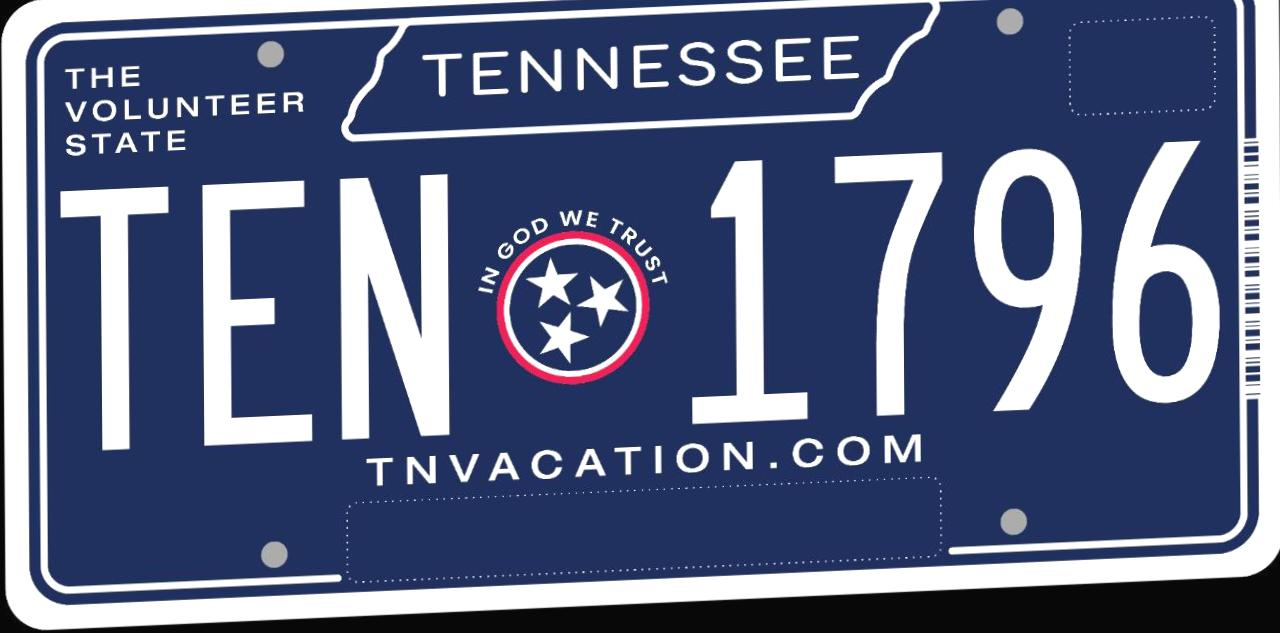License_Plate: (26, 0, 1257, 603)
